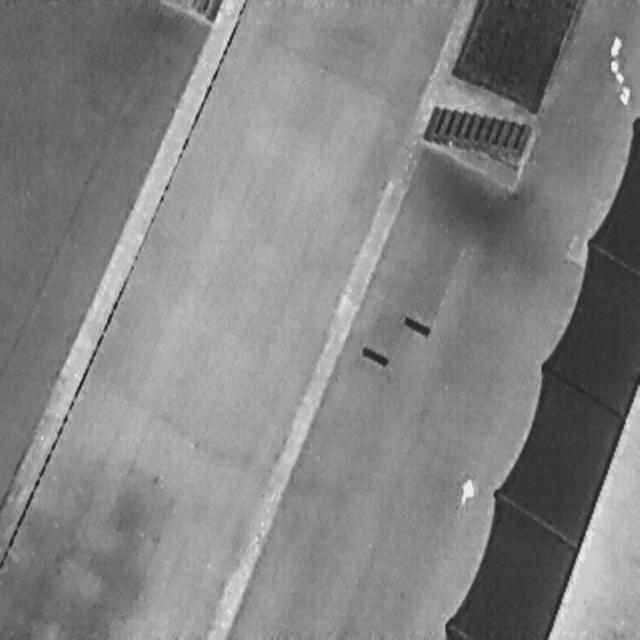Person: (456, 470, 480, 509)
